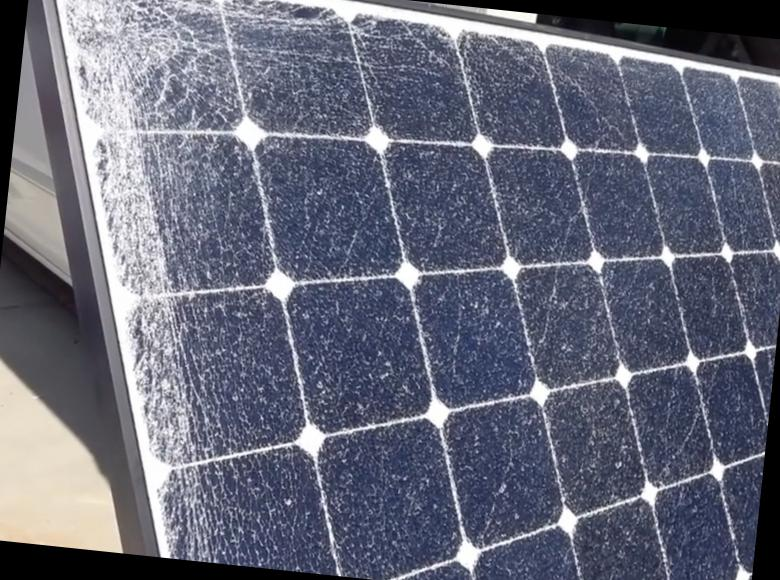Crack: (33, 0, 309, 190)
